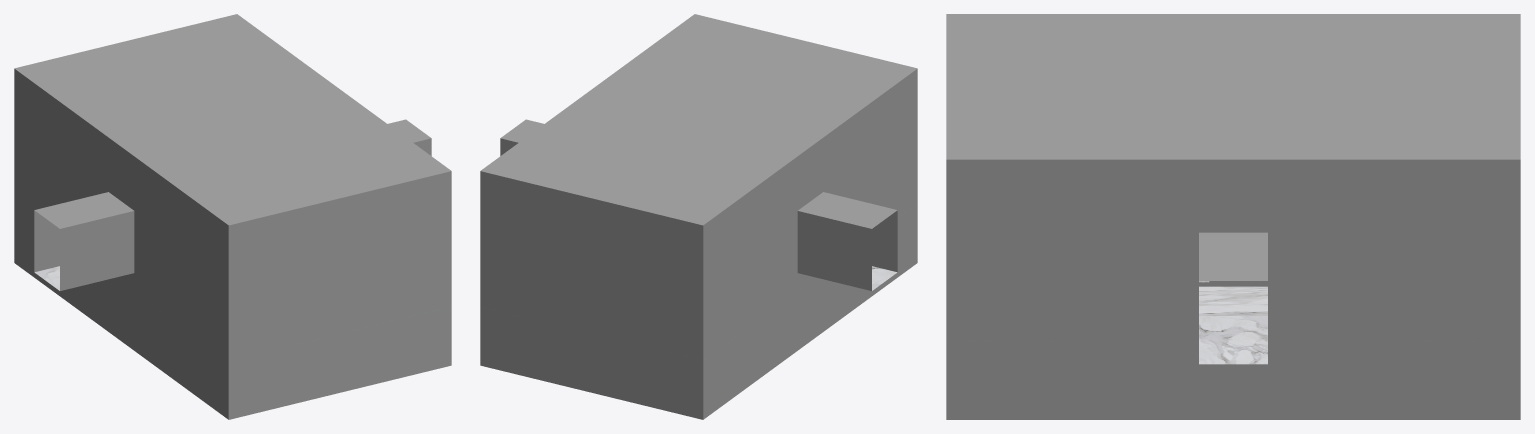
Rendered from lookoutGallery.fbx.
3 renders of one model, left to right at view 1: azimuth 30°, elevation 25°; view 2: azimuth 150°, elevation 25°; view 3: azimuth 270°, elevation 25°, orthographic. The views are drawn at different scales.
Visible parts, largest first — view 1: room1, exitFloor; view 2: room1, exitFloor; view 3: room1, entranceFloor.
Part boxes in pixels (x1=…): room1: x1=14, y1=14, x2=451, y2=419; exitFloor: x1=78, y1=273, x2=164, y2=371; room1: x1=480, y1=14, x2=917, y2=419; exitFloor: x1=780, y1=275, x2=853, y2=357; room1: x1=946, y1=14, x2=1520, y2=419; entranceFloor: x1=1118, y1=286, x2=1348, y2=419.
Size of the model in its own units: 50 by 25 by 50.
3 materials, 1 textured.
